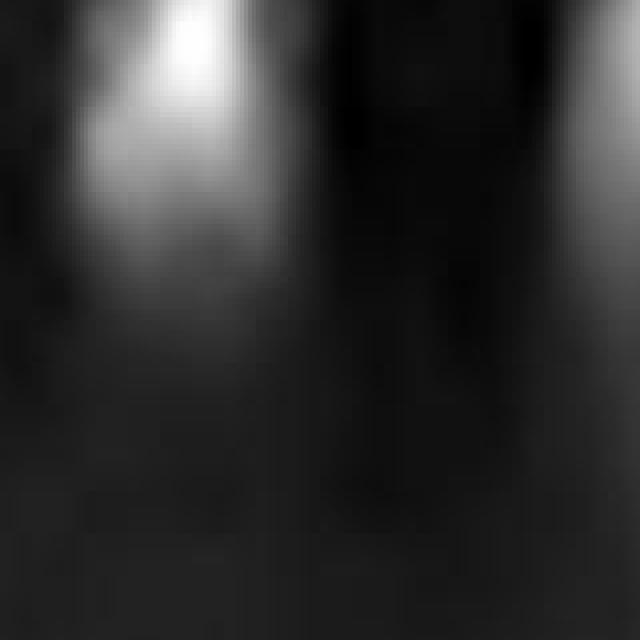person: (65, 1, 301, 385), (565, 1, 640, 497)
